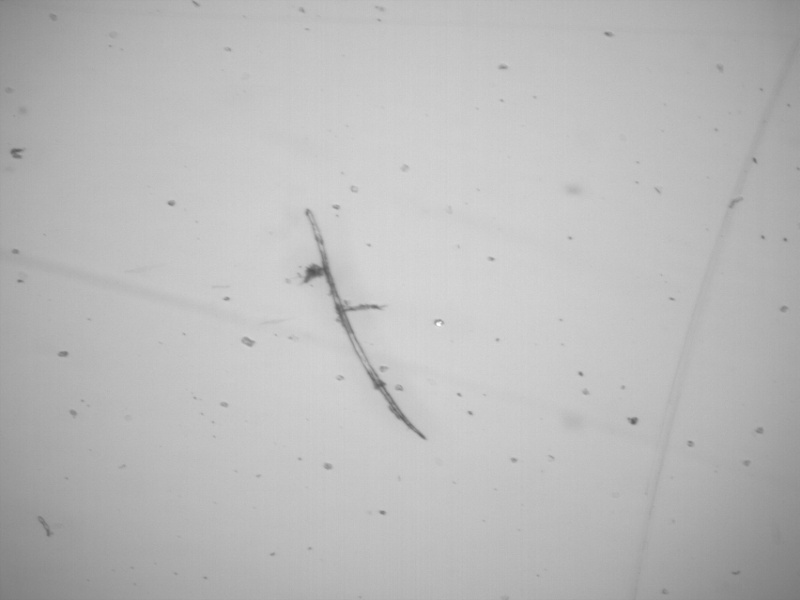fiber: (303, 205, 427, 441)
